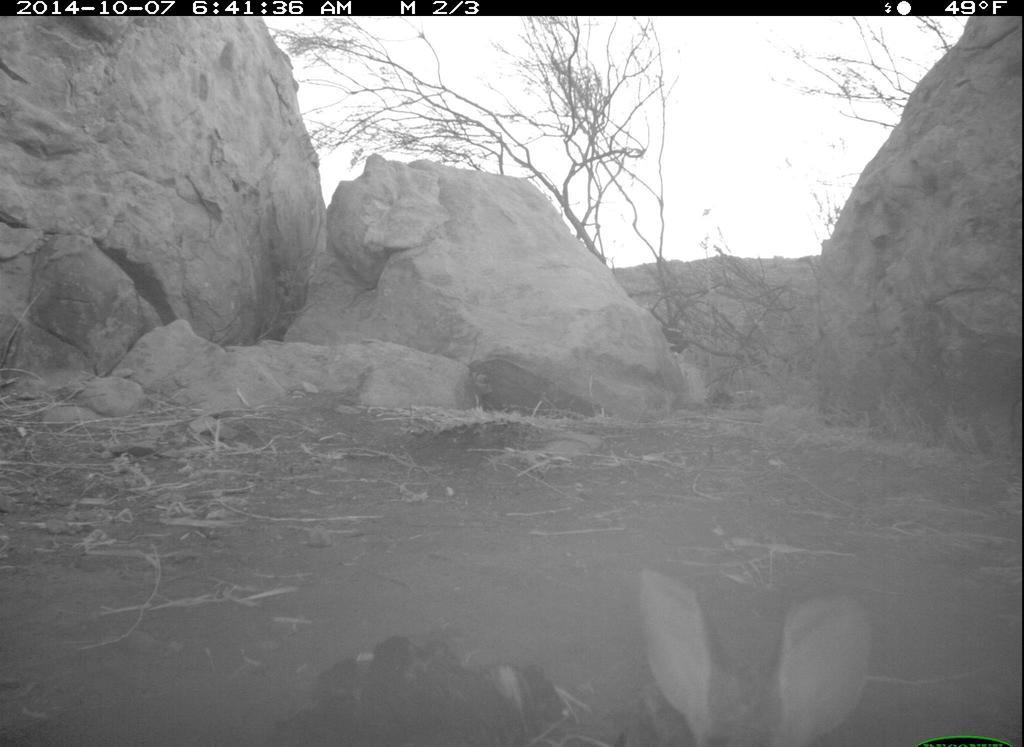rabbit: (587, 542, 893, 747)
